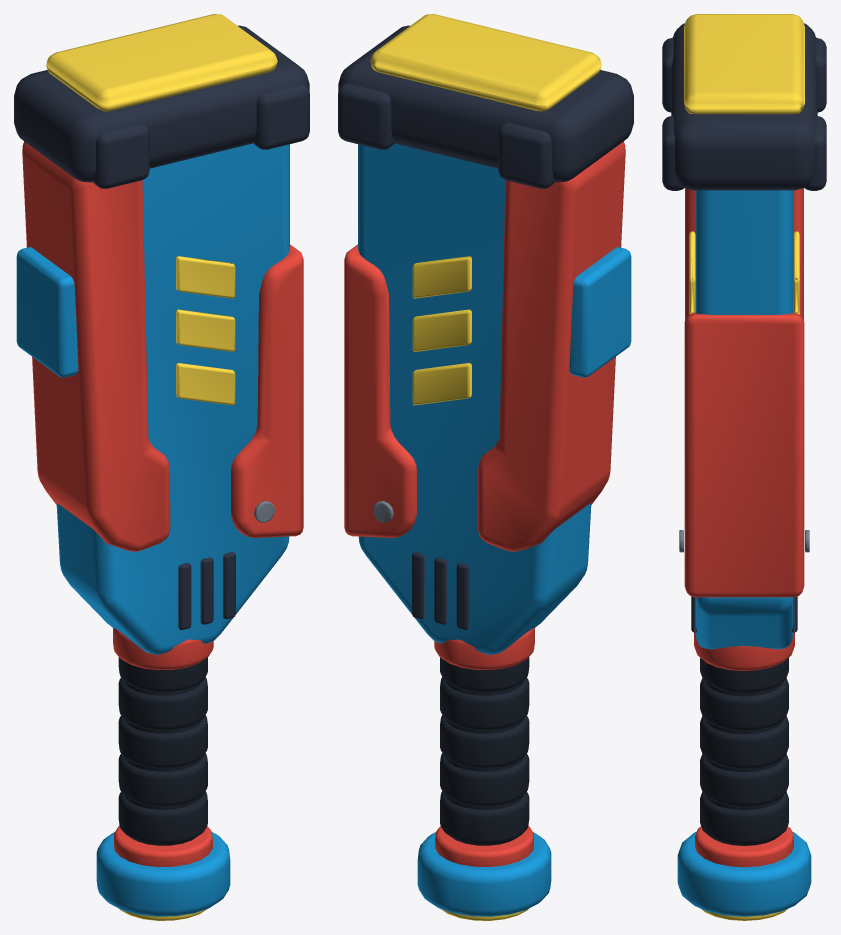
The model's file is baseball_bat.fbx.
The picture shows the model from 3 angles, left to right: view 1: azimuth 30°, elevation 25°; view 2: azimuth 150°, elevation 25°; view 3: azimuth 270°, elevation 25°; orthographic projection.
Parts seen in each view (by area): view 1: BaseballBat_Blue_LOD0, BaseballBat_Red_LOD0, BaseballBat_Navy_LOD0, BaseballBat_Yellow_LOD0, BaseballBat_Rubber_LOD0; view 2: BaseballBat_Blue_LOD0, BaseballBat_Red_LOD0, BaseballBat_Navy_LOD0, BaseballBat_Yellow_LOD0, BaseballBat_Rubber_LOD0; view 3: BaseballBat_Red_LOD0, BaseballBat_Blue_LOD0, BaseballBat_Navy_LOD0, BaseballBat_Rubber_LOD0, BaseballBat_Yellow_LOD0.
Part boxes in pixels (<box>): BaseballBat_Blue_LOD0: <box>16,143,289,916</box>; BaseballBat_Red_LOD0: <box>22,141,303,866</box>; BaseballBat_Navy_LOD0: <box>14,25,309,629</box>; BaseballBat_Yellow_LOD0: <box>46,14,277,920</box>; BaseballBat_Rubber_LOD0: <box>118,657,207,845</box>; BaseballBat_Blue_LOD0: <box>358,143,631,916</box>; BaseballBat_Red_LOD0: <box>344,141,625,866</box>; BaseballBat_Navy_LOD0: <box>338,25,633,629</box>; BaseballBat_Yellow_LOD0: <box>370,14,601,920</box>; BaseballBat_Rubber_LOD0: <box>440,657,529,845</box>; BaseballBat_Red_LOD0: <box>684,188,804,867</box>; BaseballBat_Blue_LOD0: <box>677,190,811,916</box>; BaseballBat_Navy_LOD0: <box>662,23,826,632</box>; BaseballBat_Rubber_LOD0: <box>700,658,788,845</box>; BaseballBat_Yellow_LOD0: <box>684,14,804,920</box>.
Size of what is drawn, in the model's own units: 0.3395 by 1.13 by 0.199.
